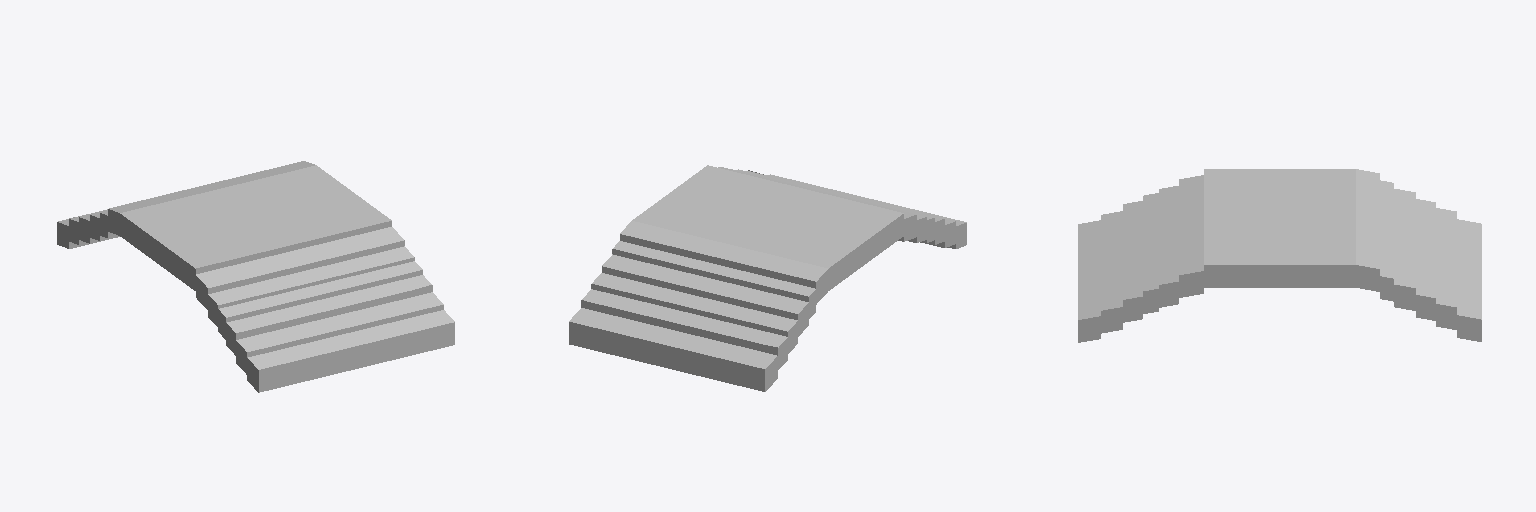
Rendered from rampadoble.obj.
3 views of the same model, side by side, from view 1: azimuth 30°, elevation 25°; view 2: azimuth 150°, elevation 25°; view 3: azimuth 270°, elevation 25° (orthographic).
Visible parts, largest first — view 1: polySurface78 polySurface61; view 2: polySurface78 polySurface61; view 3: polySurface78 polySurface61.
Boxes of the visible parts, x1=… form: polySurface78 polySurface61: x1=57, y1=161, x2=454, y2=392; polySurface78 polySurface61: x1=569, y1=165, x2=966, y2=391; polySurface78 polySurface61: x1=1078, y1=169, x2=1481, y2=342.
Bounding box in the file's own units: 900 × 342 × 1600.